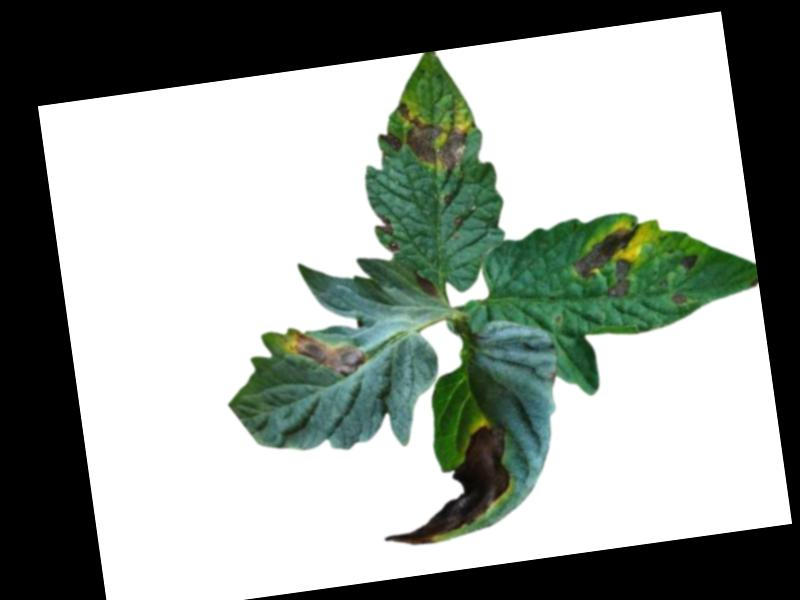Early_blight: (370, 423, 519, 550), (395, 91, 473, 179), (568, 222, 650, 304), (281, 318, 369, 386), (375, 211, 399, 256), (413, 267, 437, 301), (379, 130, 402, 155), (679, 252, 701, 274), (669, 291, 687, 306)
